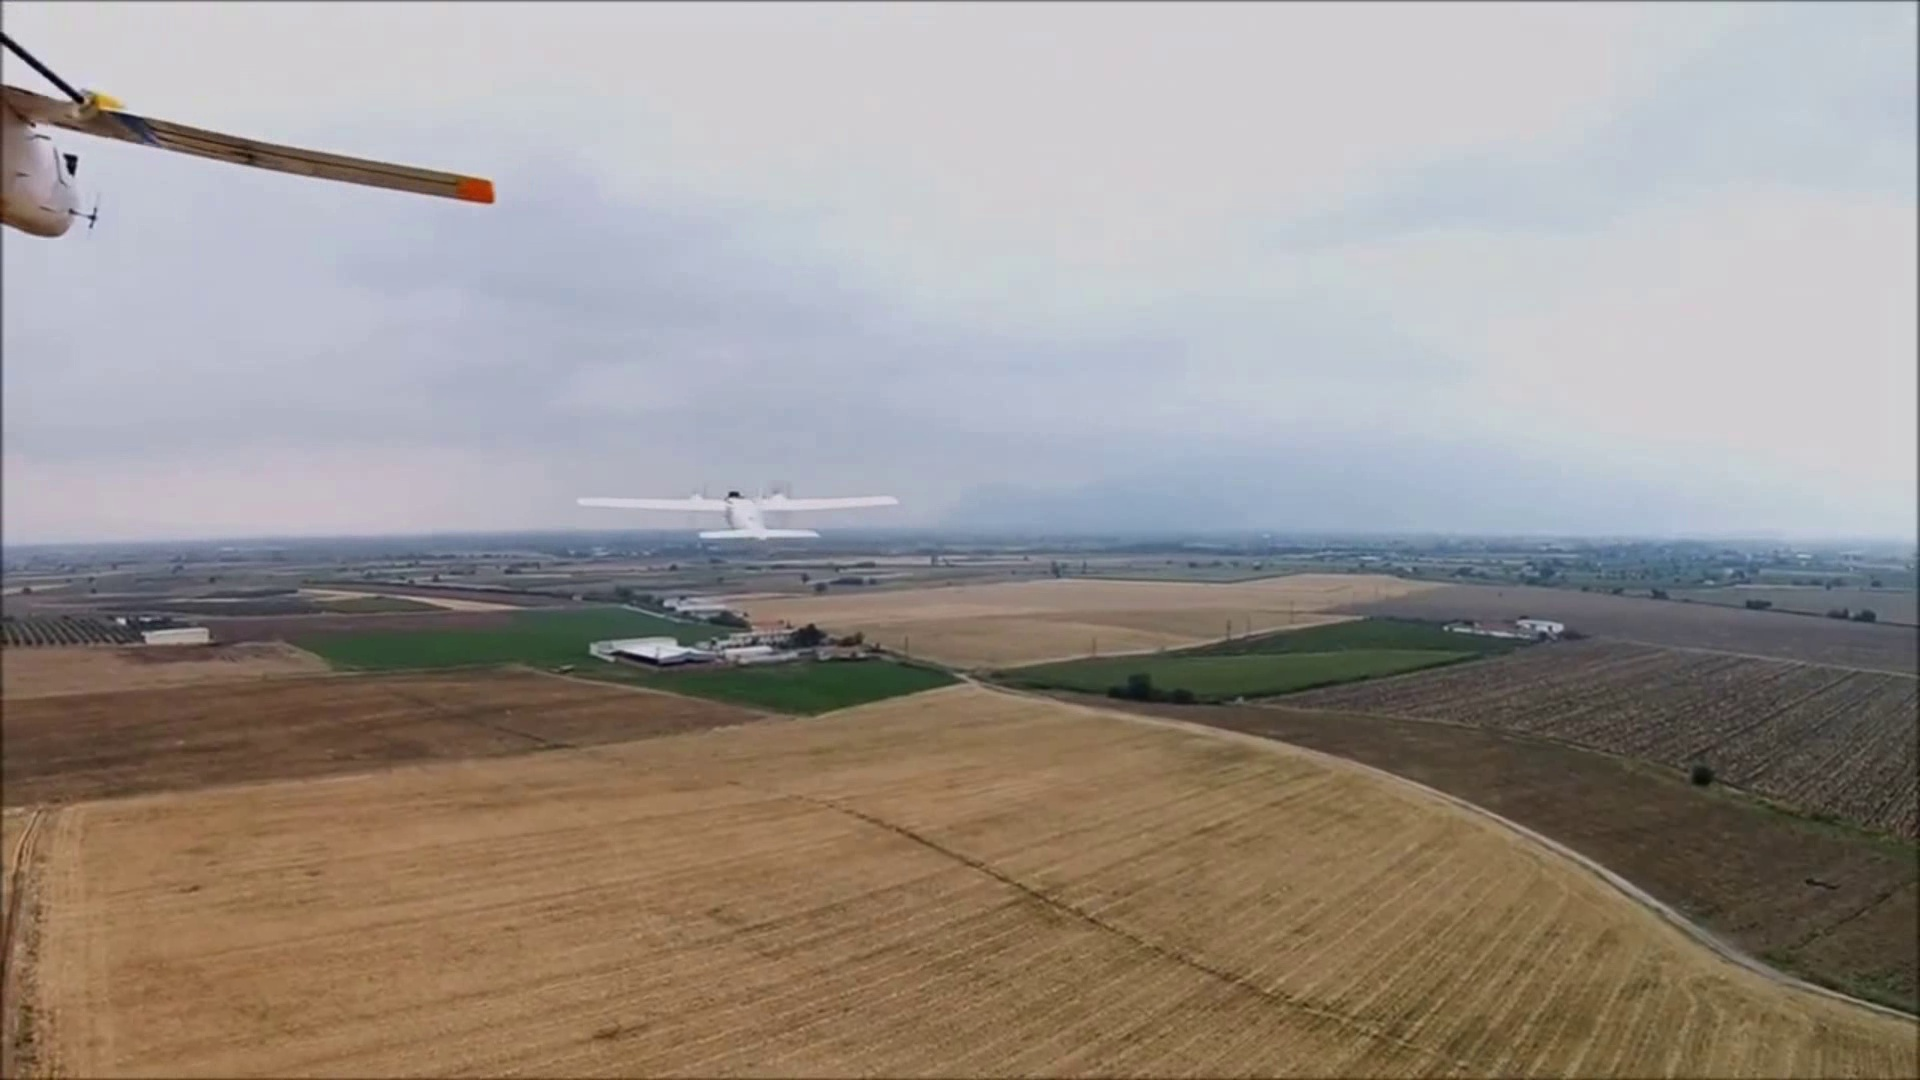airplane: (0, 26, 491, 237)
